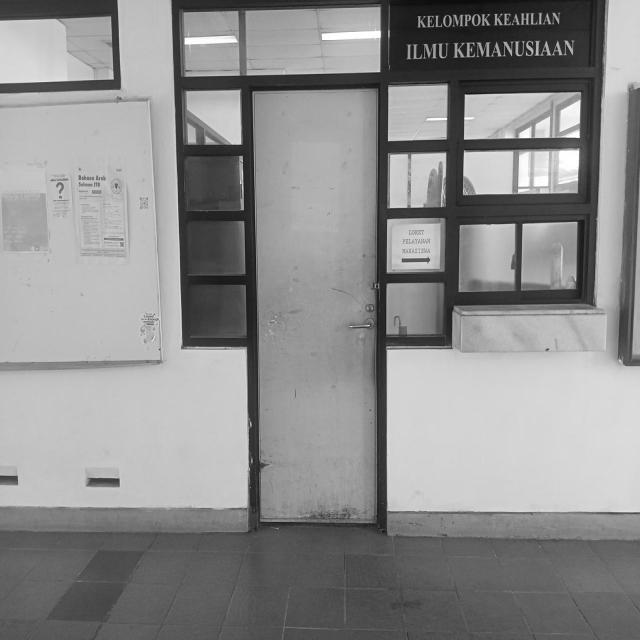door: (240, 74, 390, 530)
